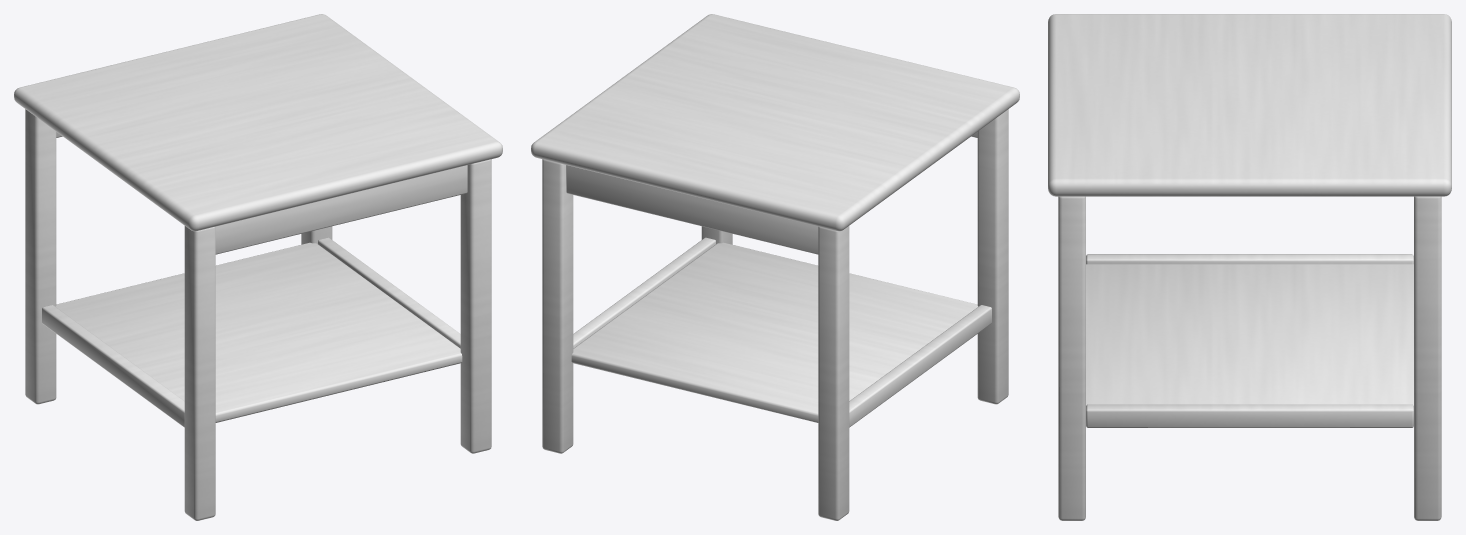
File: side-table-square-oak.glb
3 renders of one model, left to right at view 1: azimuth 30°, elevation 25°; view 2: azimuth 150°, elevation 25°; view 3: azimuth 270°, elevation 25°, orthographic. The views are drawn at different scales.
Visible parts, largest first — view 1: Square solid-wood top, Lower slatted shelf, Square wooden leg, Square wooden leg.002, Square wooden leg.001, Top apron, Shelf rail, Shelf rail.001; view 2: Square solid-wood top, Lower slatted shelf, Square wooden leg.001, Square wooden leg.003, Square wooden leg, Top apron.001, Shelf rail, Shelf rail.001; view 3: Square solid-wood top, Lower slatted shelf, Square wooden leg.002, Square wooden leg.003, Shelf rail.001, Shelf rail.
Boxes of the visible parts, x1,y1,x2,y2 form: Square solid-wood top: (14,14,502,231); Lower slatted shelf: (55,242,462,422); Square wooden leg: (184,226,215,520); Square wooden leg.002: (460,159,491,453); Square wooden leg.001: (25,109,56,404); Top apron: (215,165,467,254); Shelf rail: (42,305,184,427); Shelf rail.001: (318,237,460,348); Square solid-wood top: (531,14,1019,231); Lower slatted shelf: (571,242,978,422); Square wooden leg.001: (818,226,849,520); Square wooden leg.003: (542,159,573,453); Square wooden leg: (977,109,1008,404); Top apron.001: (566,165,818,254); Shelf rail: (849,305,991,427); Shelf rail.001: (573,237,715,348); Square solid-wood top: (1048,14,1451,196); Lower slatted shelf: (1086,264,1413,405); Square wooden leg.002: (1058,196,1085,520); Square wooden leg.003: (1414,196,1441,520); Shelf rail.001: (1086,404,1413,427); Shelf rail: (1086,254,1413,264).
Bounding box in the file's own units: 0.584 × 0.55 × 0.584.
1 material, 1 textured.
